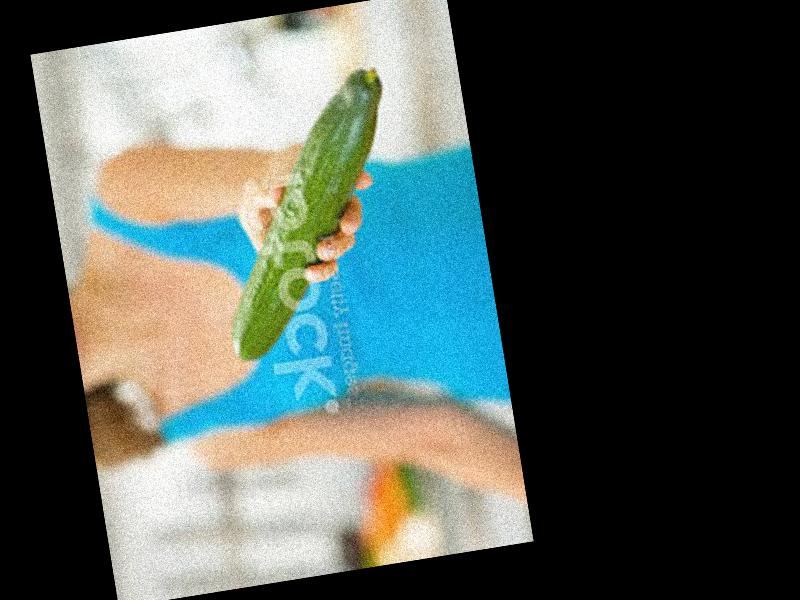Cucumber: (193, 67, 422, 364)
